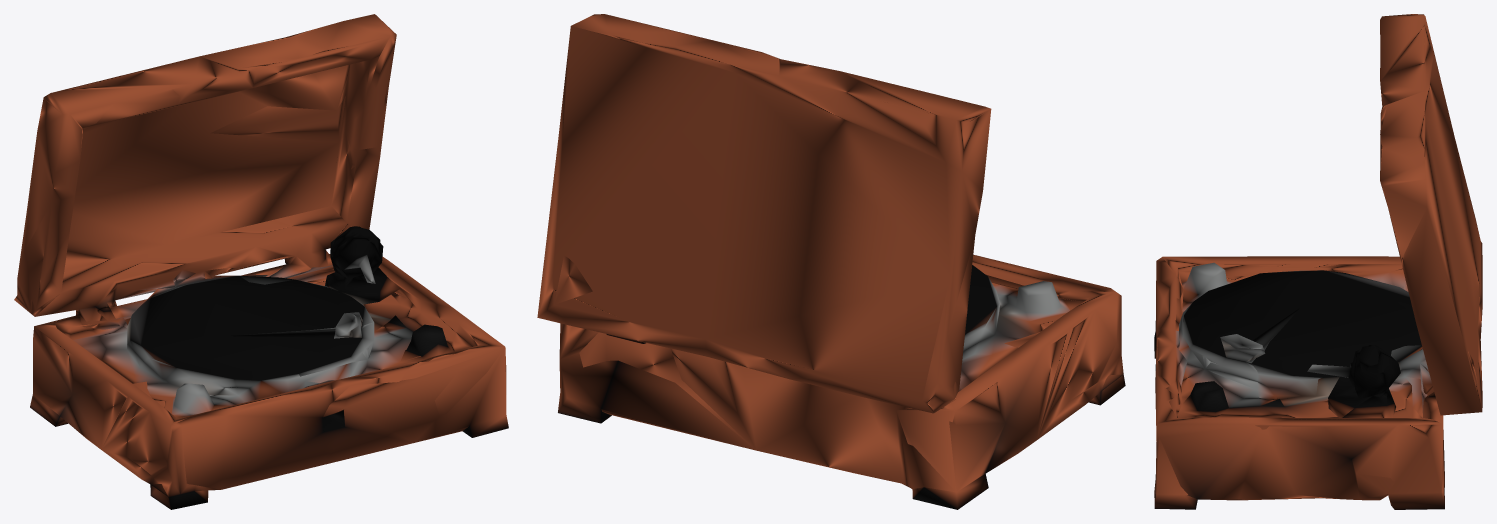
The model's file is gen3d-record-player-lod1.glb.
The picture shows the model from 3 angles, left to right: view 1: azimuth 30°, elevation 25°; view 2: azimuth 150°, elevation 25°; view 3: azimuth 270°, elevation 25°; orthographic projection. The views are drawn at different scales.
Parts seen in each view (by area): view 1: part_0; view 2: part_0; view 3: part_0.
Boxes of the visible parts, x1,y1,x2,y2 form: part_0: (14, 14, 508, 509); part_0: (537, 14, 1125, 509); part_0: (1154, 14, 1482, 509).
Size of the model in its own units: 1.11 by 0.9993 by 0.9015.
